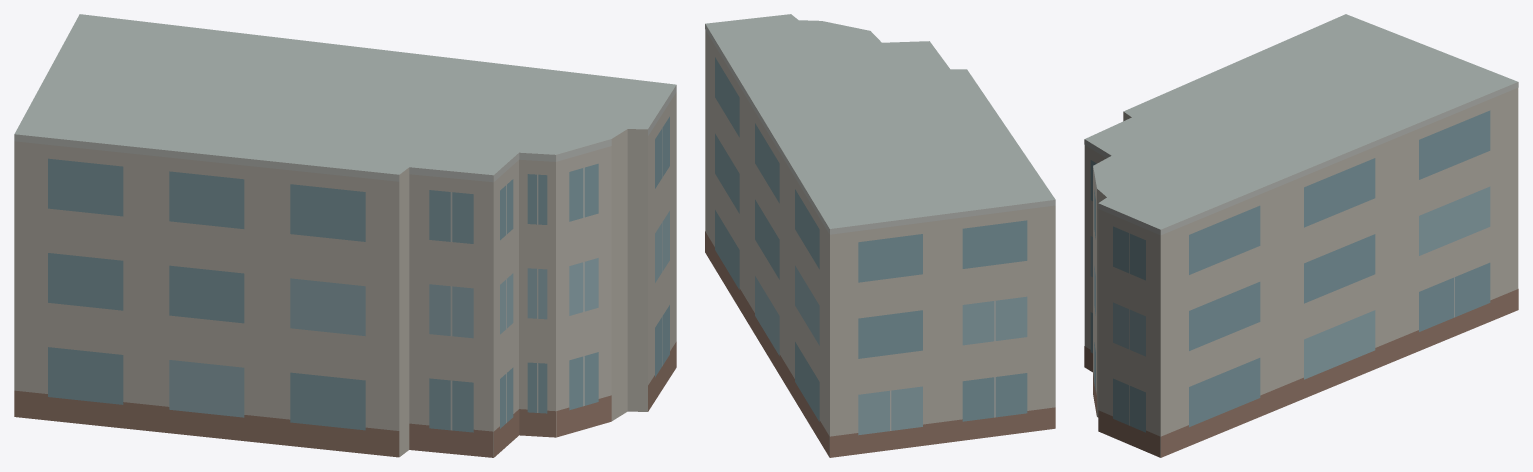
Rendered from survey-upis-33014567.glb.
The picture shows the model from 3 angles, left to right: view 1: azimuth 30°, elevation 25°; view 2: azimuth 150°, elevation 25°; view 3: azimuth 270°, elevation 25°; orthographic projection. The views are drawn at different scales.
Parts seen in each view (by area): view 1: survey-upis-33014567.tmp; view 2: survey-upis-33014567.tmp; view 3: survey-upis-33014567.tmp.
Boxes of the visible parts, box(x1,y1,x2,y2) form: survey-upis-33014567.tmp: box(14, 14, 676, 457); survey-upis-33014567.tmp: box(705, 14, 1055, 457); survey-upis-33014567.tmp: box(1084, 14, 1518, 457).
Bounding box in the file's own units: 19.88 × 9.8 × 16.9.
